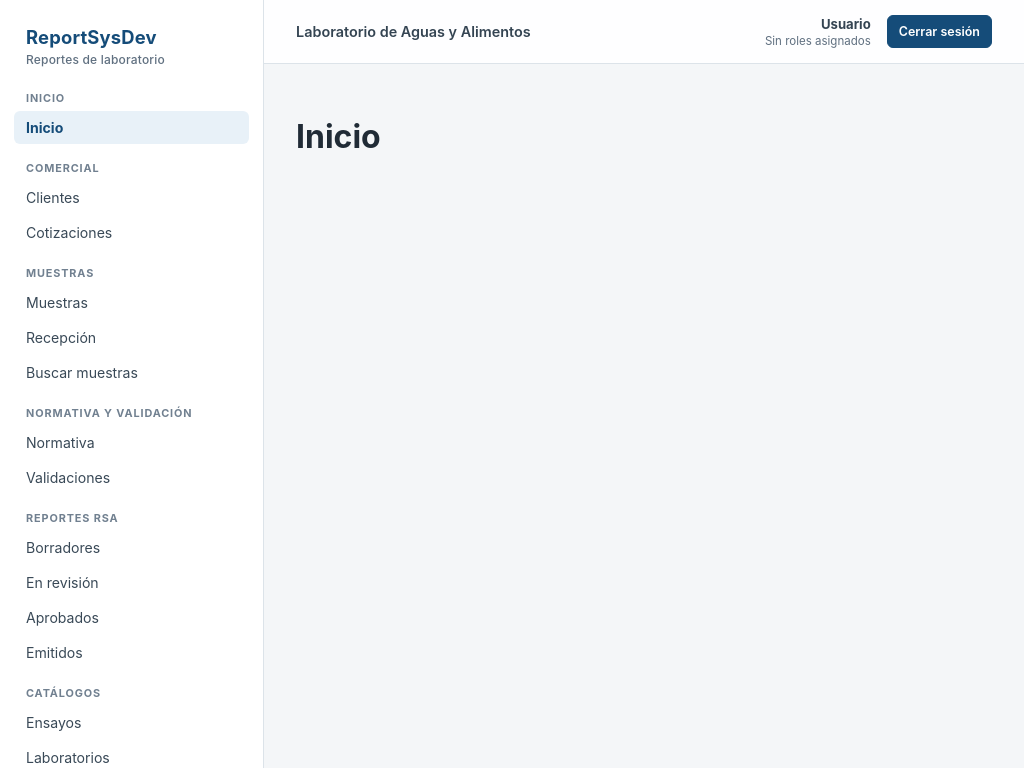
Test: AppLayout › renders the shell and navigates between routes
Expected: the text "Laboratorio de Aguas y Alimentos" is shown, [296, 23, 531, 40]
Expected: the heading "Inicio" below "Sin roles asignados" is shown, [296, 117, 381, 156]
Click the link "Clientes" at point(53, 198), box [26, 189, 80, 206]
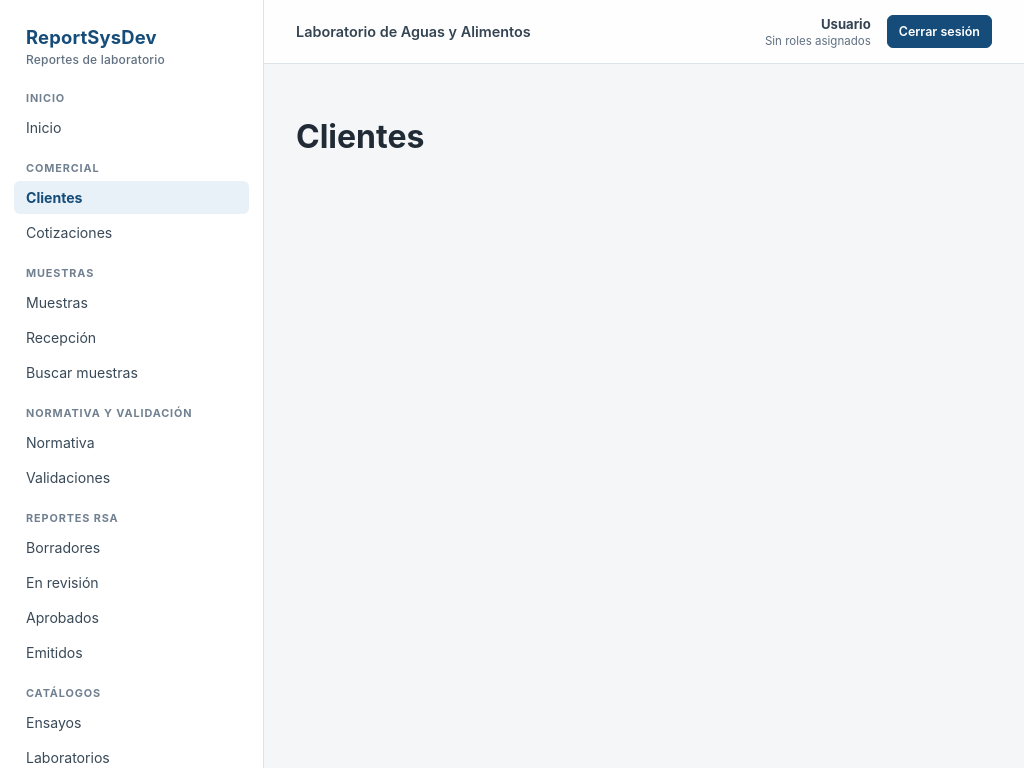
Expected: the heading "Clientes" is shown, [296, 117, 424, 156]
